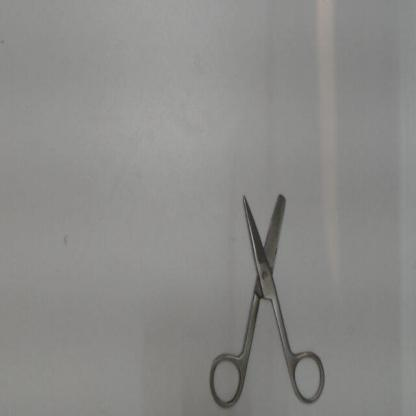Dressing Scissors: (203, 179, 334, 412)
